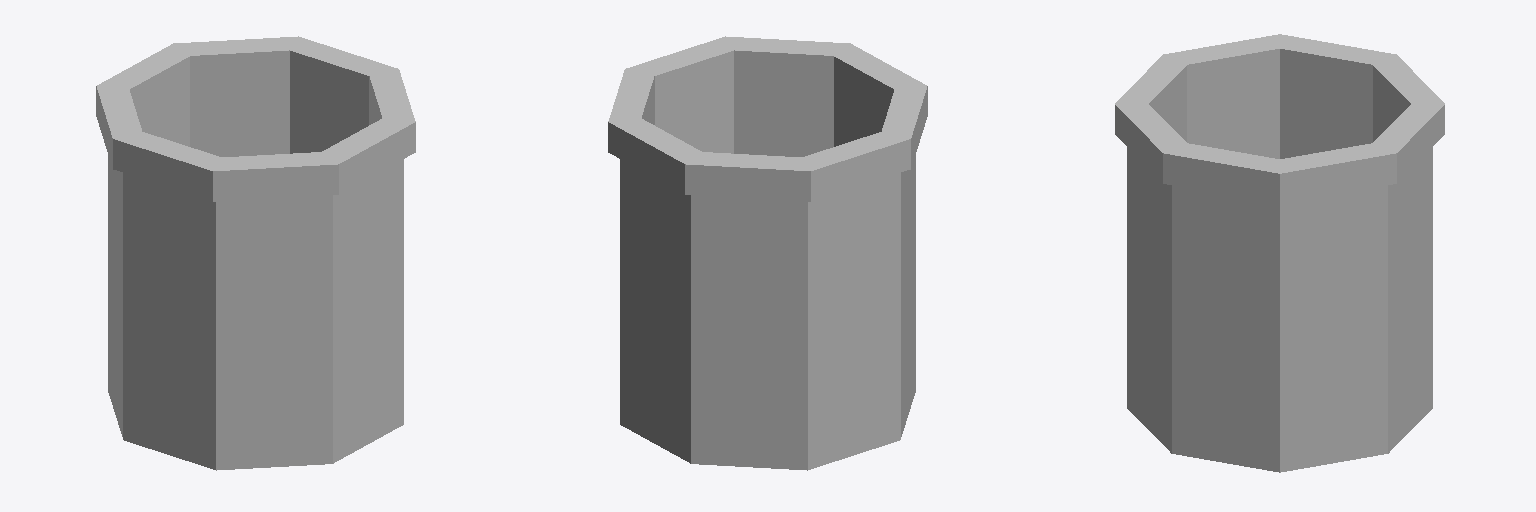
File: Tong sampah low.obj
3 renders of one model, left to right at view 1: azimuth 30°, elevation 25°; view 2: azimuth 150°, elevation 25°; view 3: azimuth 270°, elevation 25°, orthographic.
Visible parts, largest first — view 1: pCylinder18; view 2: pCylinder18; view 3: pCylinder18.
Part boxes in pixels (x1,y1,x2,y2): pCylinder18: (96, 36, 415, 470); pCylinder18: (608, 36, 927, 470); pCylinder18: (1115, 34, 1444, 472).
Size of the model in its own units: 0.72 by 0.7306 by 0.72.